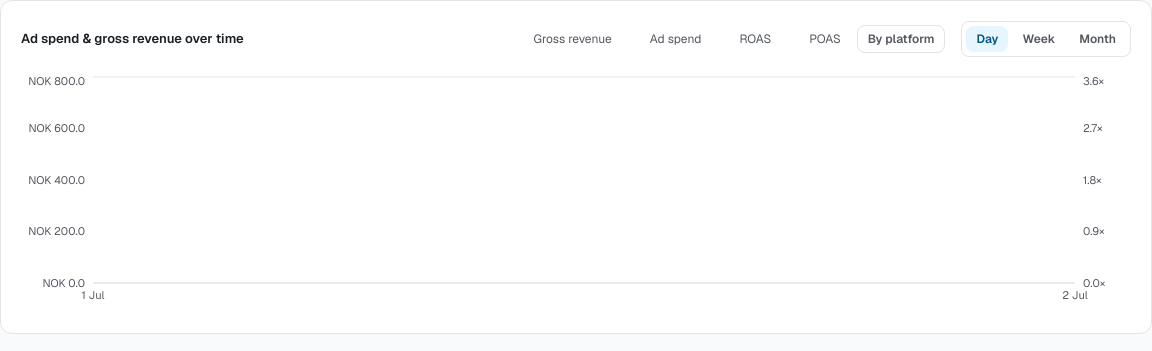
Test case: MarketingChart › swaps to one line per platform when By platform is pressed
The width and height of the screenshot is (1152, 351).
Click the button "By platform" at x=901, y=39, box [857,25,946,53]
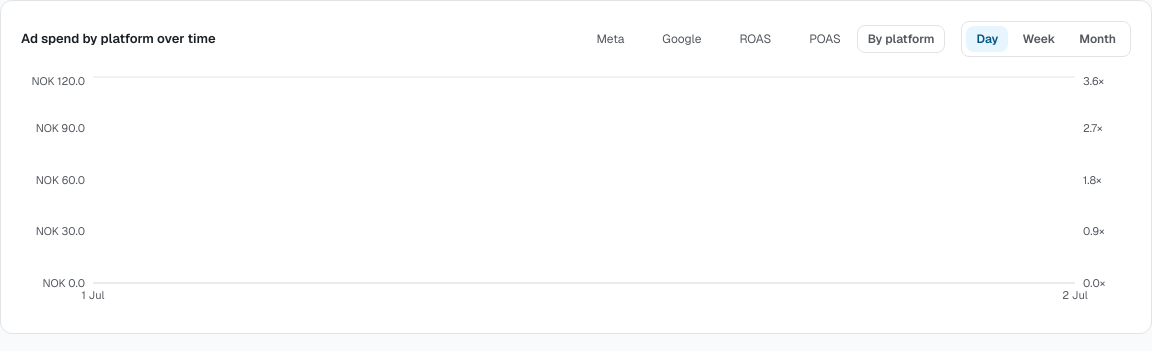
expect the text "Meta" is shown: met, box [596,31,624,47]
expect the text "Google" is shown: met, box [662,31,701,47]
expect the heading "gross revenue" is gone: met
